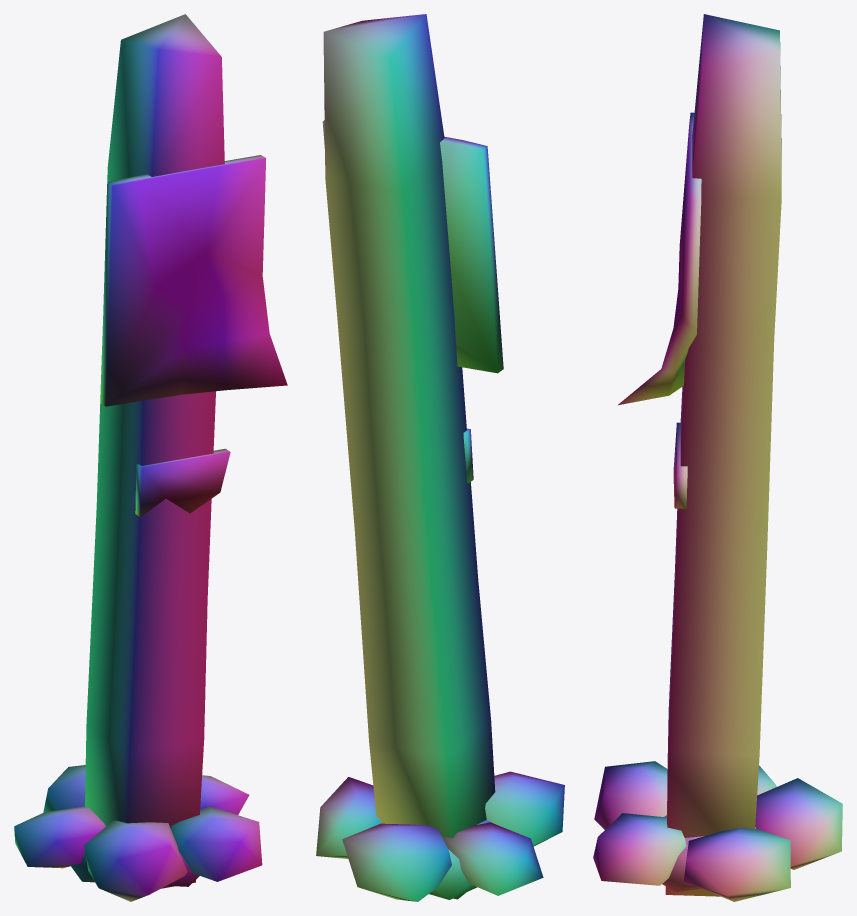
Rendered from SM_Prop_March_OrderPost_LOD1.fbx.
3 renders of one model, left to right at view 1: azimuth 30°, elevation 25°; view 2: azimuth 150°, elevation 25°; view 3: azimuth 270°, elevation 25°, orthographic. The views are drawn at different scales.
Visible parts, largest first — view 1: SM_Prop_March_OrderPost_LOD1; view 2: SM_Prop_March_OrderPost_LOD1; view 3: SM_Prop_March_OrderPost_LOD1.
Boxes of the visible parts, x1=… form: SM_Prop_March_OrderPost_LOD1: x1=14, y1=14, x2=287, y2=901; SM_Prop_March_OrderPost_LOD1: x1=316, y1=14, x2=564, y2=901; SM_Prop_March_OrderPost_LOD1: x1=593, y1=14, x2=842, y2=901.
Bounding box in the file's own units: 0.5155 × 1.83 × 0.473.
